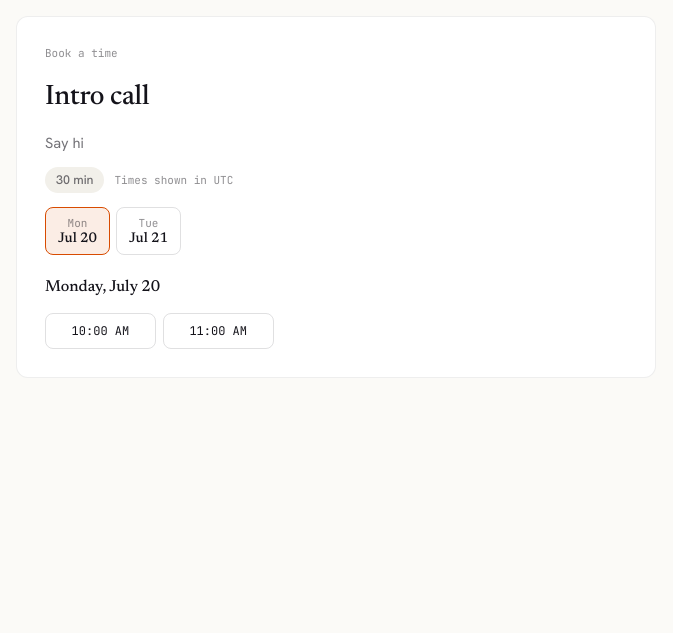
<BookingPage> › handles losing the race for a slot: message + fresh slot list
Check: the heading "Intro call" is shown, box [45, 82, 149, 110]
Click the button with class "slot-btn" showing "10:00 AM": (100, 331) [45, 313, 156, 349]
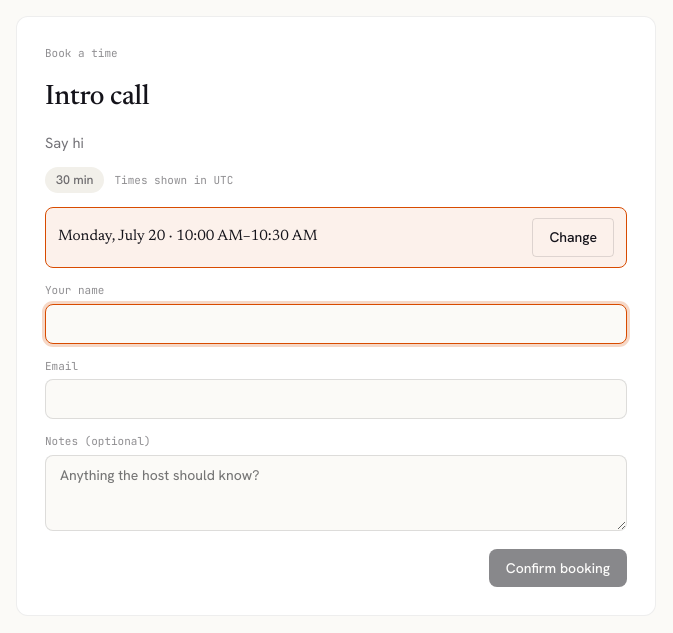
In the field labelled "Your name": (336, 324) [45, 304, 627, 344], type "Ada"
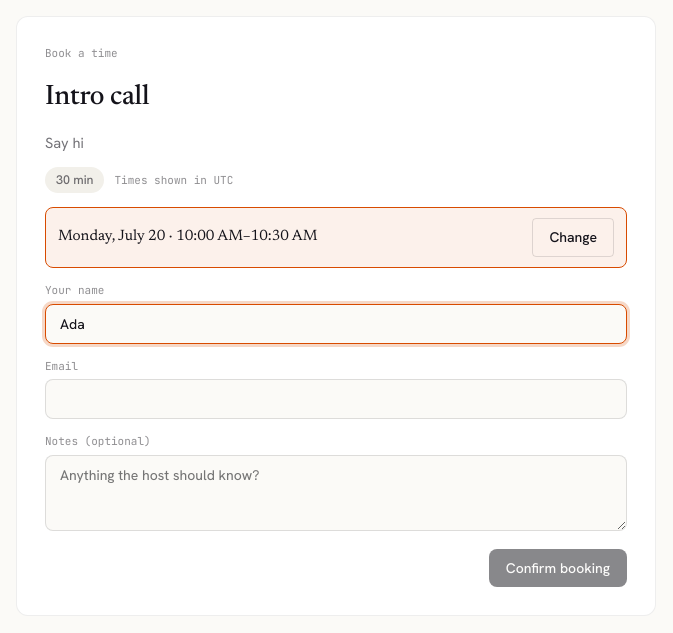
In the field labelled "Email": (336, 399) [45, 379, 627, 419], type "ada@example.com"
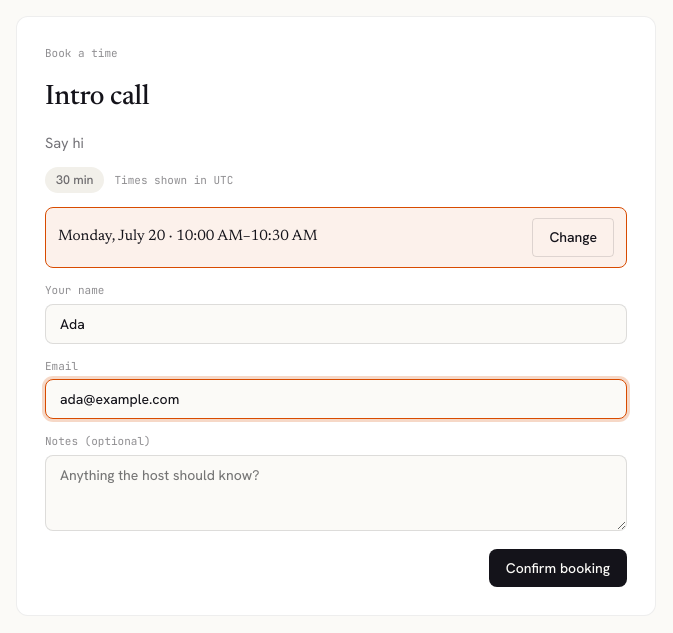
Click the button "Confirm booking": (558, 568) [489, 548, 627, 587]
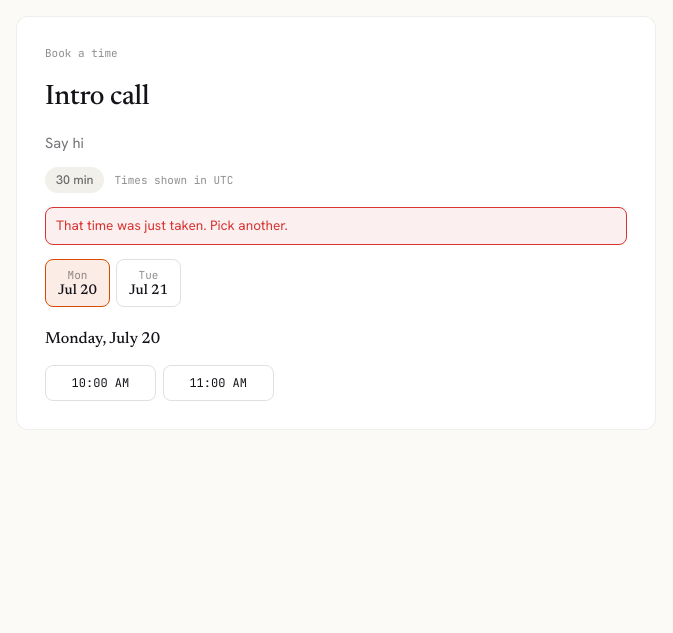
Check: the button with class "slot-btn" showing "10:00 AM" is shown, box [45, 365, 156, 401]
Check: the text "That time was just taken. Pick another." is shown, box [45, 207, 627, 245]
